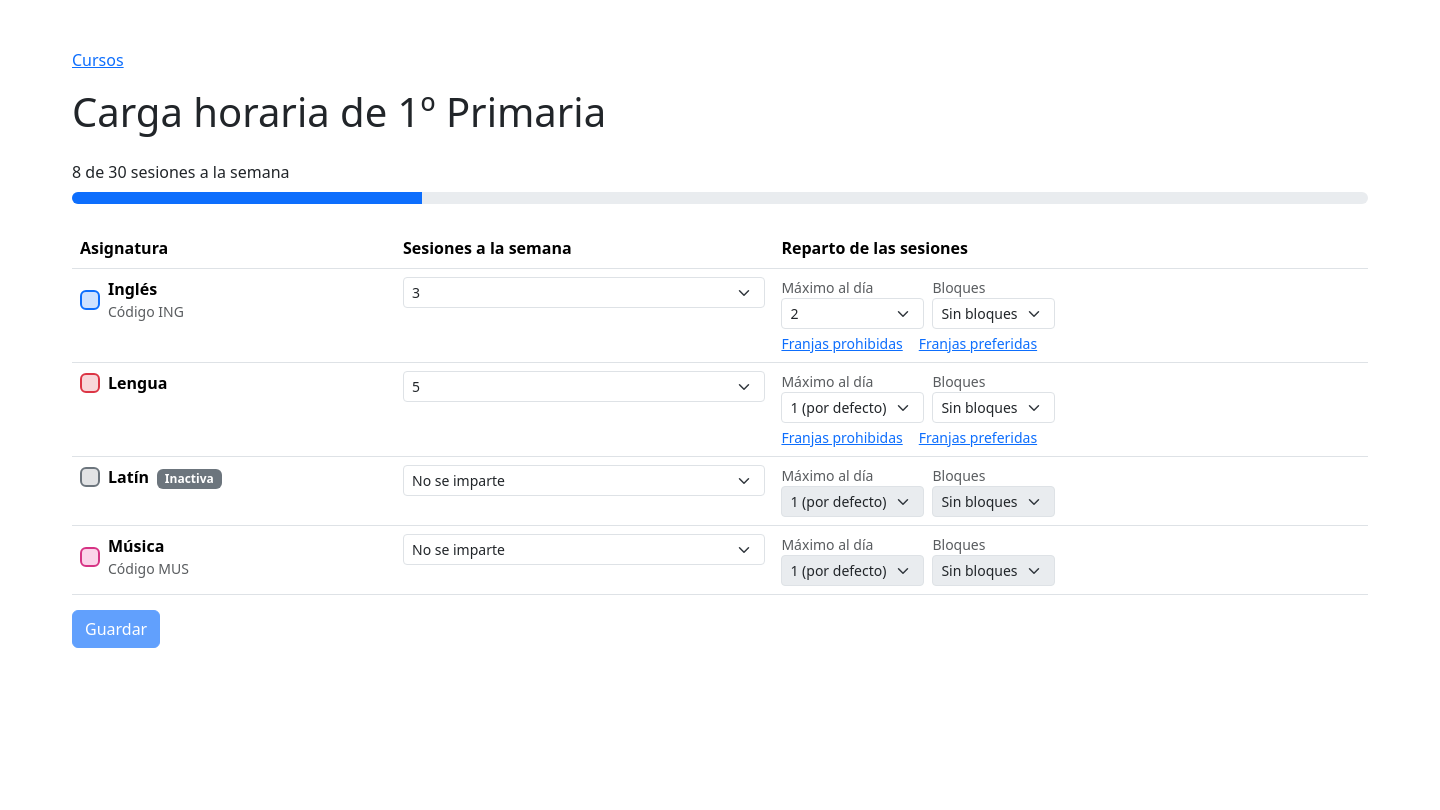
Test: CourseWorkloadPage › as an administrator › reloads the workload and says that a subject no longer exists when the server cannot find it
Select "4" in the dropdown named "Sesiones a la semana de Inglés": (584, 292) x1=403 y1=277 x2=765 y2=308
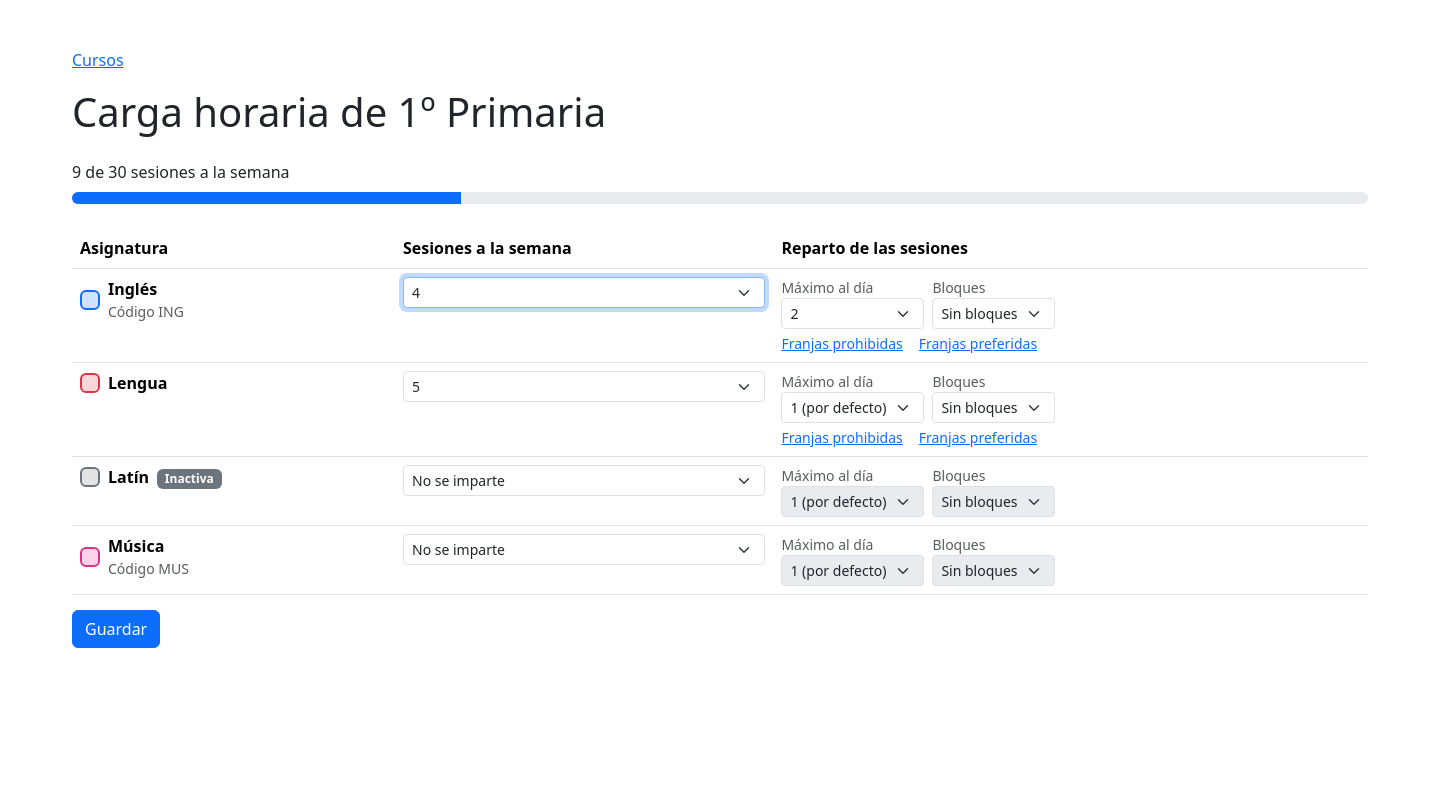
Click the button "Guardar": (116, 629) x1=72 y1=610 x2=160 y2=648
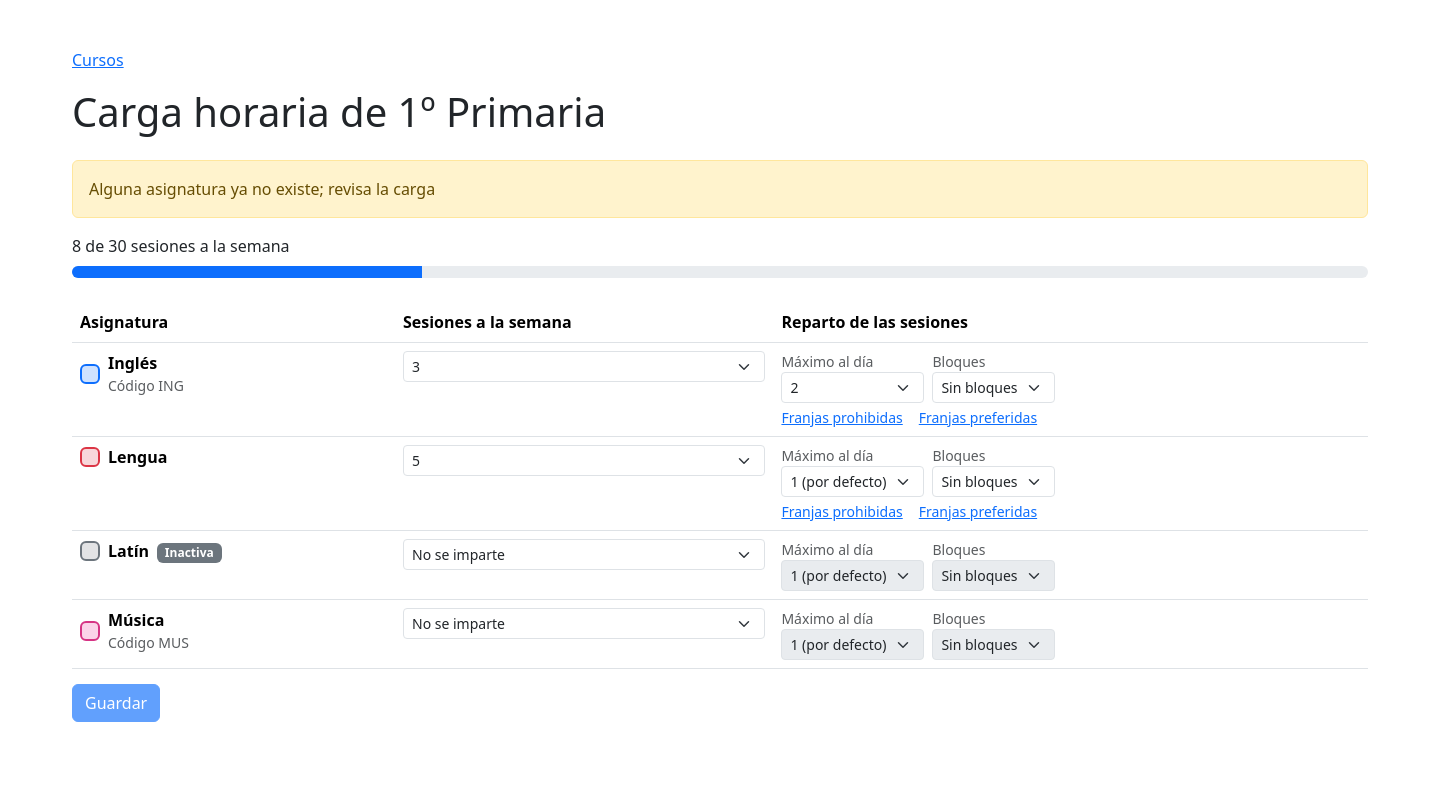
Check: the heading "Carga horaria de 1º Primaria" is shown, box x1=72 y1=84 x2=606 y2=139
Check: the text "Alguna asignatura ya no existe; revisa la carga" is shown, box x1=72 y1=160 x2=1368 y2=218
Check: the dropdown named "Sesiones a la semana de Inglés" shows "3", box x1=403 y1=351 x2=765 y2=382
